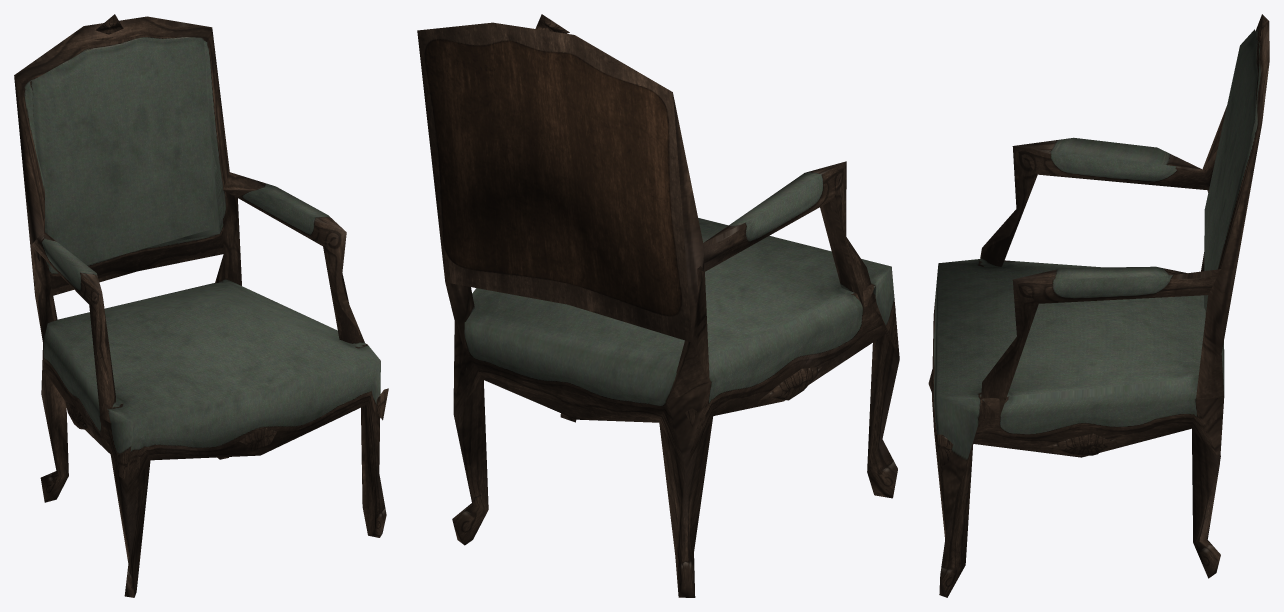
File: GreenChairLOD2.fbx
3 renders of one model, left to right at view 1: azimuth 30°, elevation 25°; view 2: azimuth 150°, elevation 25°; view 3: azimuth 270°, elevation 25°, orthographic. The views are drawn at different scales.
Parts seen in each view (by area): view 1: GreenChair_01; view 2: GreenChair_01; view 3: GreenChair_01.
Boxes of the visible parts, x1,y1,x2,y2 form: GreenChair_01: [14, 14, 388, 597]; GreenChair_01: [417, 14, 899, 597]; GreenChair_01: [928, 14, 1269, 597].
Bounding box in the file's own units: 66.03 × 106 × 65.19.
